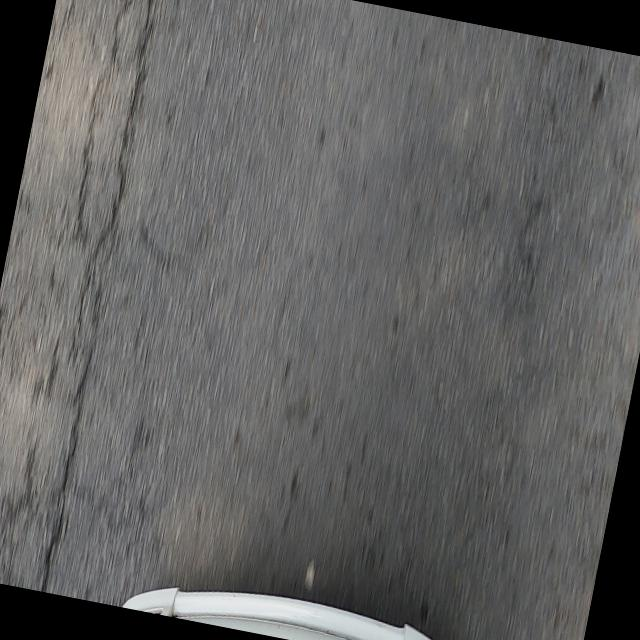Retak-Memanjang: (31, 0, 152, 591)
